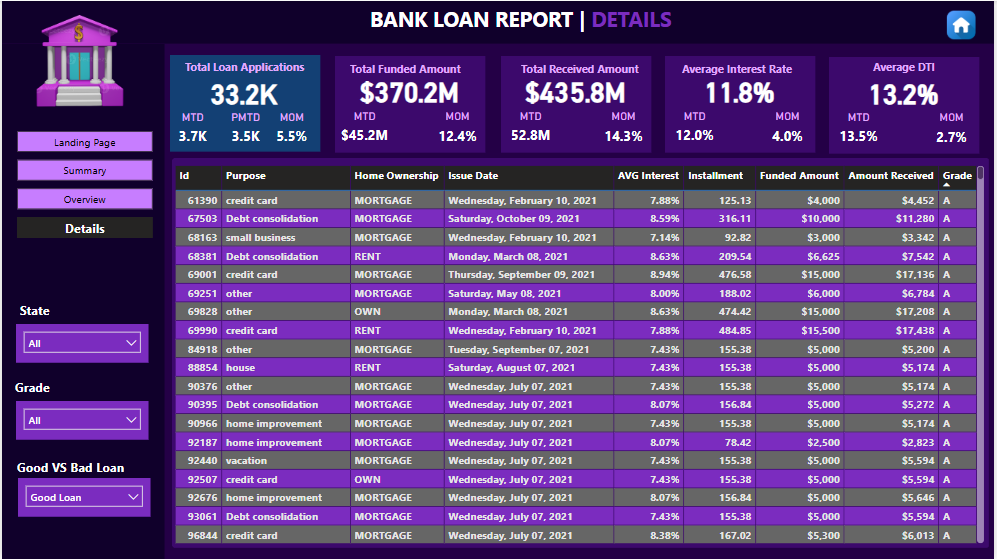

The page's visual inventory and layout, read from the dashboard file:
{"tool":"powerbi","page":{"name":"Details","canvas":[1280,720],"ordinal":3},"visuals":[{"type":"shape","box":[0,0,1279.8,55.3],"z":0},{"type":"shape","box":[0,55.3,209.8,664.7],"z":1000},{"type":"textbox","box":[469.1,0,443.6,56.7],"z":2000},{"type":"group","id":"g1","title":"Group 1","box":[206.9,69.4,206.9,124.7],"z":3000},{"type":"group","id":"g2","title":"Group 1","box":[428,70.9,199.8,124.7],"z":4000},{"type":"group","id":"g3","title":"Group 1","box":[642,70.9,198.4,124.7],"z":5000},{"type":"group","id":"g4","title":"Group 1","box":[854.6,70.9,197,124.7],"z":6000},{"type":"group","id":"g5","title":"Group 1","box":[1065.8,69.4,197,127.6],"z":7000},{"type":"shape","box":[216.8,69.4,194.2,124.7],"z":8000,"group":"g1"},{"type":"shape","box":[429,70.9,194.2,124.7],"z":8000,"group":"g2"},{"type":"shape","box":[643,70.9,194.2,124.7],"z":8000,"group":"g3"},{"type":"shape","box":[855.6,70.9,194.2,124.7],"z":8000,"group":"g4"},{"type":"shape","box":[1066.8,72.5,194.2,124.7],"z":8000,"group":"g5"},{"type":"group","id":"g6","title":"Group 2","box":[218.9,202.9,1054.5,503.1],"z":8000},{"type":"shape","box":[218.9,202.9,1054.5,503.1],"z":8000,"group":"g6"},{"type":"card","fields":{"Values":["All Measures.Total Funded Amount"]},"box":[428,89.5,194.2,51],"z":8500,"group":"g2"},{"type":"card","fields":{"Values":["All Measures.Total Amount Received"]},"box":[642,89.5,194.2,51],"z":8500,"group":"g3"},{"type":"card","fields":{"Values":["All Measures.AVG interest rate"]},"box":[854.6,89.5,194.2,51],"z":8500,"group":"g4"},{"type":"card","fields":{"Values":["All Measures.AVG DTI"]},"box":[1065.8,91.1,194.2,51],"z":8500,"group":"g5"},{"type":"card","fields":{"Values":["All Measures.total_loan_applications"]},"box":[256.8,95.1,110.6,43.9],"z":8500,"group":"g1"},{"type":"textbox","box":[231,69.4,182.8,31.2],"z":9000,"group":"g1"},{"type":"textbox","box":[1118.2,69.4,137.5,35.4],"z":9000,"group":"g5"},{"type":"textbox","box":[443.9,72.5,184.3,34],"z":9000,"group":"g2"},{"type":"textbox","box":[663.8,72.5,172.9,34],"z":9000,"group":"g3"},{"type":"textbox","box":[873.2,72.5,178.6,34],"z":9000,"group":"g4"},{"type":"tableEx","fields":{"Values":["bank_loan.id","bank_loan.purpose","bank_loan.home_ownership","bank_loan.issue_date","All Measures.AVG interest rate","Sum(bank_loan.installment)","All Measures.Total Funded Amount","All Measures.Total Amount Received","bank_loan.grade"]},"box":[218.3,208.3,1054.5,497.5],"z":9000},{"type":"card","title":"MTD","fields":{"Values":["All Measures.MTD funded amount"]},"box":[428.3,140.5,79.4,52.4],"z":9500,"group":"g2"},{"type":"card","title":"MTD","fields":{"Values":["All Measures.MTD received amount"]},"box":[642.3,140.5,79.4,52.4],"z":9500,"group":"g3"},{"type":"card","title":"MTD","fields":{"Values":["All Measures.MTD AVG interest rate"]},"box":[854.9,140.5,79.4,52.4],"z":9500,"group":"g4"},{"type":"card","title":"MTD","fields":{"Values":["All Measures.MTD"]},"box":[206.9,141.7,79.4,52.4],"z":9500,"group":"g1"},{"type":"card","title":"MTD","fields":{"Values":["All Measures.MTD AVG DTI"]},"box":[1066.1,142.1,79.4,52.4],"z":9500,"group":"g5"},{"type":"card","title":"PMTD","fields":{"Values":["All Measures.PMTD"]},"box":[274.9,141.7,79.4,52.4],"z":10000,"group":"g1"},{"type":"group","id":"g7","title":"Group 3","box":[18.4,382.7,171.5,83.6],"z":10000},{"type":"card","title":"MOM","fields":{"Values":["All Measures.MOM funded amount"]},"box":[548.8,140.5,76.5,55.3],"z":10500,"group":"g2"},{"type":"card","title":"MOM","fields":{"Values":["All Measures.MOM received amount"]},"box":[762.8,140.5,76.5,55.3],"z":10500,"group":"g3"},{"type":"card","title":"MOM","fields":{"Values":["All Measures.MOM AVG interest rate"]},"box":[975.4,140.5,76.5,55.3],"z":10500,"group":"g4"},{"type":"card","title":"MOM","fields":{"Values":["All Measures.MOM loan applications"]},"box":[334.5,141.7,79.4,52.4],"z":10500,"group":"g1"},{"type":"card","title":"MOM","fields":{"Values":["All Measures.MOM AVG DTI"]},"box":[1186.6,142.1,76.5,55.3],"z":10500,"group":"g5"},{"type":"group","id":"g8","title":"Group 4","box":[12.2,482,177.8,83.5],"z":11000},{"type":"textbox","box":[18.4,382.7,59.5,34],"z":12000,"group":"g7"},{"type":"group","id":"g9","title":"Group 5","box":[13.6,585.3,177.7,79.5],"z":12000},{"type":"image","box":[18.4,0,168.7,151.7],"z":13000},{"type":"pageNavigator","box":[19.8,167.2,175.7,141.7],"z":14000},{"type":"image","box":[1214.6,7.1,46.8,48.2],"z":15000},{"type":"slicer","fields":{"Values":["bank_loan.address_state"]},"box":[18.4,416.7,171.5,49.6],"z":17000,"group":"g7"},{"type":"slicer","fields":{"Values":["bank_loan.grade"]},"box":[18.5,515.9,171.5,49.6],"z":18000,"group":"g8"},{"type":"slicer","fields":{"Values":["bank_loan.Good Loan VS Bad Loan"]},"box":[19.8,615.1,171.5,49.6],"z":19000,"group":"g9"},{"type":"textbox","box":[12.2,482,73.7,34],"z":20000,"group":"g8"},{"type":"textbox","box":[13.6,585.3,158.7,34],"z":21000,"group":"g9"}]}

Visuals, with their boxes in screenshot pixels (x1, y1, x2, y2), scaled from the page's 1280x720 canvas onto the 997x559 screenshot:
shape: {"x1": 0, "y1": 0, "x2": 996, "y2": 43}
shape: {"x1": 0, "y1": 43, "x2": 163, "y2": 558}
textbox: {"x1": 365, "y1": 0, "x2": 711, "y2": 44}
"Group 1" group: {"x1": 161, "y1": 54, "x2": 322, "y2": 151}
"Group 1" group: {"x1": 333, "y1": 55, "x2": 489, "y2": 152}
"Group 1" group: {"x1": 500, "y1": 55, "x2": 655, "y2": 152}
"Group 1" group: {"x1": 666, "y1": 55, "x2": 819, "y2": 152}
"Group 1" group: {"x1": 830, "y1": 54, "x2": 984, "y2": 153}
shape: {"x1": 169, "y1": 54, "x2": 320, "y2": 151}
shape: {"x1": 334, "y1": 55, "x2": 485, "y2": 152}
shape: {"x1": 501, "y1": 55, "x2": 652, "y2": 152}
shape: {"x1": 666, "y1": 55, "x2": 818, "y2": 152}
shape: {"x1": 831, "y1": 56, "x2": 982, "y2": 153}
"Group 2" group: {"x1": 171, "y1": 158, "x2": 992, "y2": 548}
shape: {"x1": 171, "y1": 158, "x2": 992, "y2": 548}
card - All Measures.Total Funded Amount: {"x1": 333, "y1": 69, "x2": 485, "y2": 109}
card - All Measures.Total Amount Received: {"x1": 500, "y1": 69, "x2": 651, "y2": 109}
card - All Measures.AVG interest rate: {"x1": 666, "y1": 69, "x2": 817, "y2": 109}
card - All Measures.AVG DTI: {"x1": 830, "y1": 71, "x2": 981, "y2": 110}
card - All Measures.total_loan_applications: {"x1": 200, "y1": 74, "x2": 286, "y2": 108}
textbox: {"x1": 180, "y1": 54, "x2": 322, "y2": 78}
textbox: {"x1": 871, "y1": 54, "x2": 978, "y2": 81}
textbox: {"x1": 346, "y1": 56, "x2": 489, "y2": 83}
textbox: {"x1": 517, "y1": 56, "x2": 652, "y2": 83}
textbox: {"x1": 680, "y1": 56, "x2": 819, "y2": 83}
tableEx - bank_loan.id x bank_loan.purpose: {"x1": 170, "y1": 162, "x2": 991, "y2": 548}
"MTD" card: {"x1": 334, "y1": 109, "x2": 395, "y2": 150}
"MTD" card: {"x1": 500, "y1": 109, "x2": 562, "y2": 150}
"MTD" card: {"x1": 666, "y1": 109, "x2": 728, "y2": 150}
"MTD" card: {"x1": 161, "y1": 110, "x2": 223, "y2": 151}
"MTD" card: {"x1": 830, "y1": 110, "x2": 892, "y2": 151}
"PMTD" card: {"x1": 214, "y1": 110, "x2": 276, "y2": 151}
"Group 3" group: {"x1": 14, "y1": 297, "x2": 148, "y2": 362}
"MOM" card: {"x1": 427, "y1": 109, "x2": 487, "y2": 152}
"MOM" card: {"x1": 594, "y1": 109, "x2": 654, "y2": 152}
"MOM" card: {"x1": 760, "y1": 109, "x2": 819, "y2": 152}
"MOM" card: {"x1": 261, "y1": 110, "x2": 322, "y2": 151}
"MOM" card: {"x1": 924, "y1": 110, "x2": 984, "y2": 153}
"Group 4" group: {"x1": 10, "y1": 374, "x2": 148, "y2": 439}
textbox: {"x1": 14, "y1": 297, "x2": 61, "y2": 324}
"Group 5" group: {"x1": 11, "y1": 454, "x2": 149, "y2": 516}
image: {"x1": 14, "y1": 0, "x2": 146, "y2": 118}
pageNavigator: {"x1": 15, "y1": 130, "x2": 152, "y2": 240}
image: {"x1": 946, "y1": 6, "x2": 983, "y2": 43}
slicer - bank_loan.address_state: {"x1": 14, "y1": 324, "x2": 148, "y2": 362}
slicer - bank_loan.grade: {"x1": 14, "y1": 401, "x2": 148, "y2": 439}
slicer - bank_loan.Good Loan VS Bad Loan: {"x1": 15, "y1": 478, "x2": 149, "y2": 516}
textbox: {"x1": 10, "y1": 374, "x2": 67, "y2": 401}
textbox: {"x1": 11, "y1": 454, "x2": 134, "y2": 481}
